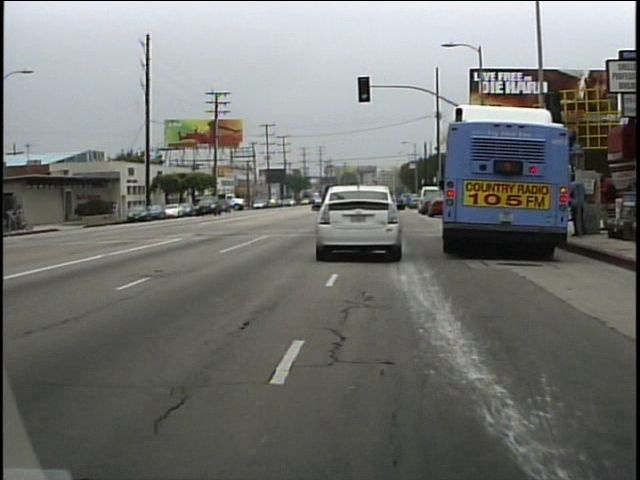person: (563, 173, 591, 242), (109, 195, 123, 220)
